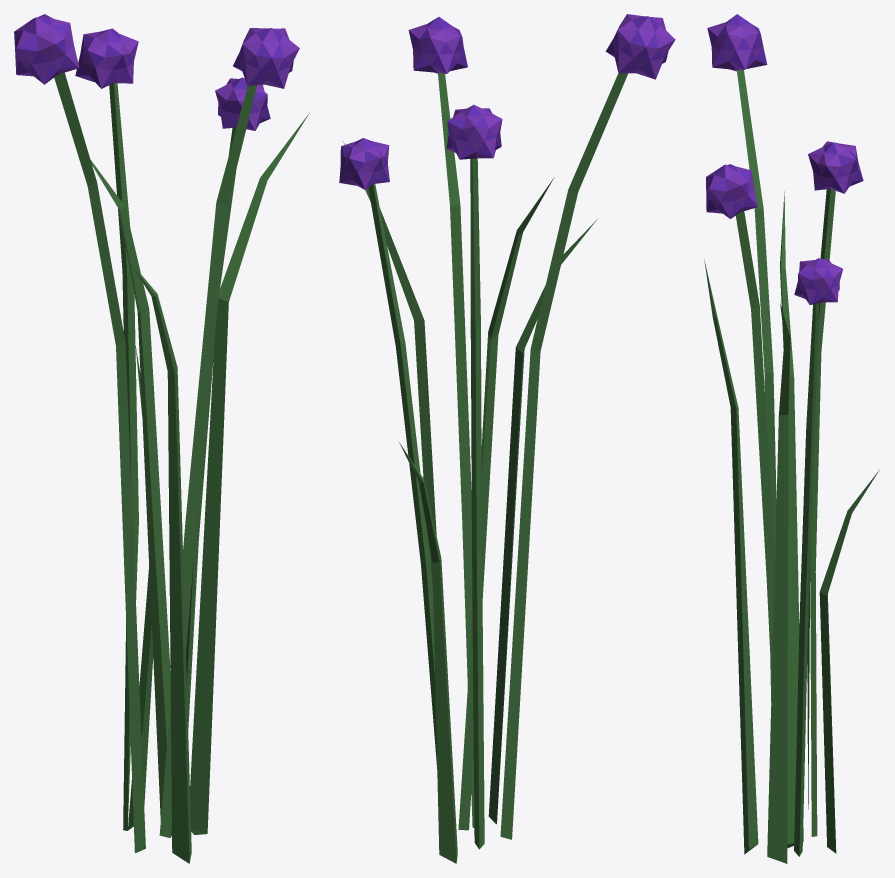
Rendered from flowers05.gltf.
3 views of the same model, side by side, from view 1: azimuth 30°, elevation 25°; view 2: azimuth 150°, elevation 25°; view 3: azimuth 270°, elevation 25° (orthographic). The views are drawn at different scales.
Parts seen in each view (by area): view 1: Icosphere; view 2: Icosphere; view 3: Icosphere.
Boxes of the visible parts, x1,y1,x2,y2 form: Icosphere: [14, 14, 309, 863]; Icosphere: [339, 14, 675, 863]; Icosphere: [704, 14, 879, 863].
Bounding box in the file's own units: 0.2201 × 0.5791 × 0.1198.
Materials: 1 (1 with a texture image).
